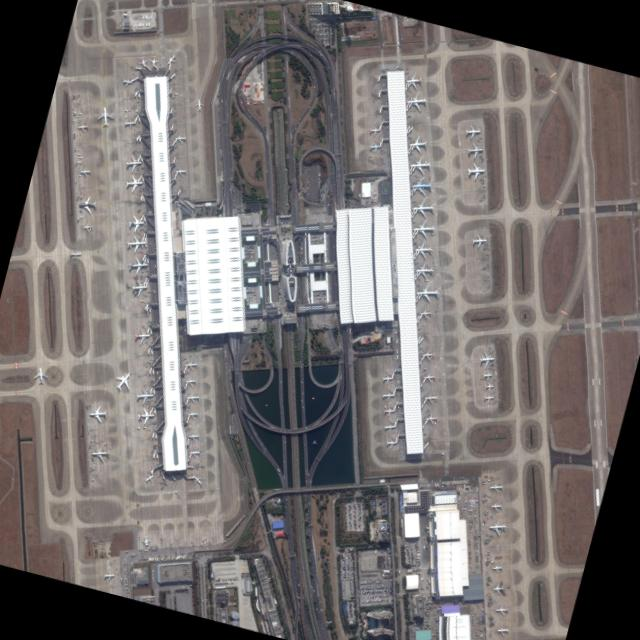plane: (110, 367, 135, 392), (415, 282, 438, 301), (405, 90, 426, 108), (126, 256, 147, 274), (125, 233, 144, 252), (409, 155, 430, 172), (90, 444, 111, 461), (465, 160, 483, 179), (410, 176, 430, 193), (87, 404, 107, 421), (411, 198, 432, 214), (411, 219, 432, 235), (487, 517, 506, 534), (126, 212, 143, 231), (136, 406, 154, 423), (124, 153, 140, 172), (408, 134, 425, 151), (96, 107, 113, 124), (124, 174, 141, 191), (413, 240, 431, 256), (414, 261, 432, 277), (405, 70, 421, 87), (130, 278, 146, 295), (134, 326, 149, 344), (477, 350, 493, 366), (80, 195, 96, 211), (189, 471, 204, 488), (135, 387, 152, 402), (466, 140, 481, 156), (470, 233, 486, 247), (463, 123, 479, 137), (33, 366, 47, 382), (164, 49, 178, 65), (141, 471, 155, 485), (422, 391, 437, 403), (495, 622, 508, 635), (494, 602, 507, 614), (147, 53, 159, 66), (120, 74, 132, 87), (421, 370, 435, 381), (423, 411, 437, 422), (488, 480, 502, 491), (489, 498, 501, 510), (135, 55, 147, 67), (420, 348, 433, 359), (79, 164, 90, 177), (419, 307, 430, 319), (382, 405, 394, 416), (492, 581, 503, 593), (482, 391, 494, 402), (193, 98, 204, 110), (77, 119, 88, 131), (368, 141, 381, 151), (385, 437, 396, 448), (383, 420, 394, 431), (368, 124, 379, 135), (81, 220, 92, 231), (381, 389, 393, 399), (183, 375, 195, 385), (102, 570, 114, 580), (185, 392, 198, 401), (183, 359, 196, 368), (381, 373, 392, 383), (490, 561, 501, 571), (187, 430, 198, 440), (186, 408, 197, 418), (69, 248, 80, 258), (174, 165, 185, 175), (174, 131, 185, 141), (123, 117, 134, 127), (482, 380, 492, 390), (481, 369, 491, 379), (140, 534, 150, 544), (189, 446, 198, 456)
storage-tank: (226, 608, 239, 619)
